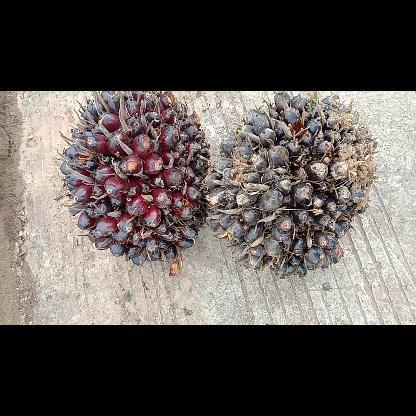TBS mentah: (204, 90, 380, 284), (58, 90, 210, 270)
